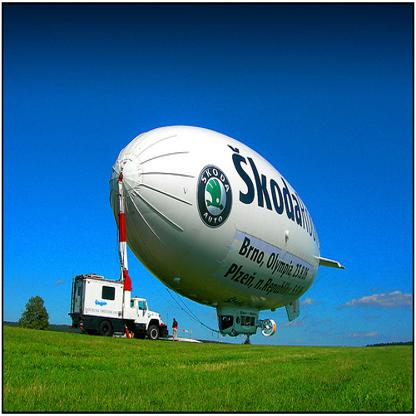Airship: (109, 124, 346, 327)
